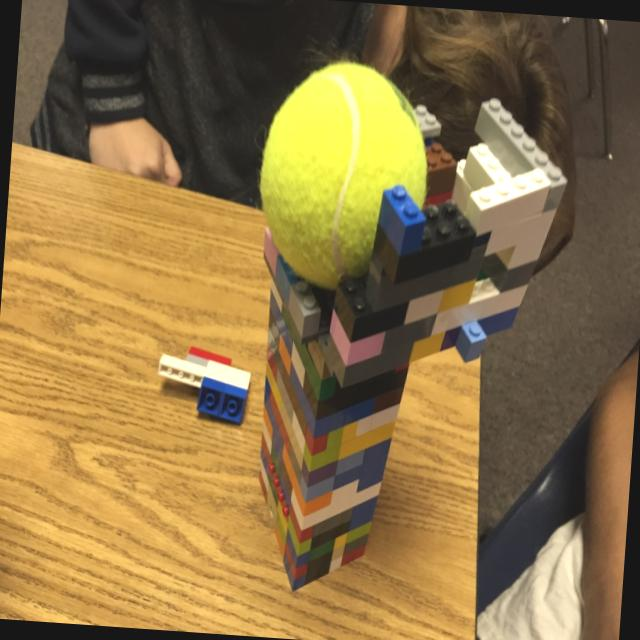Tennis Ball: (252, 51, 435, 296)
